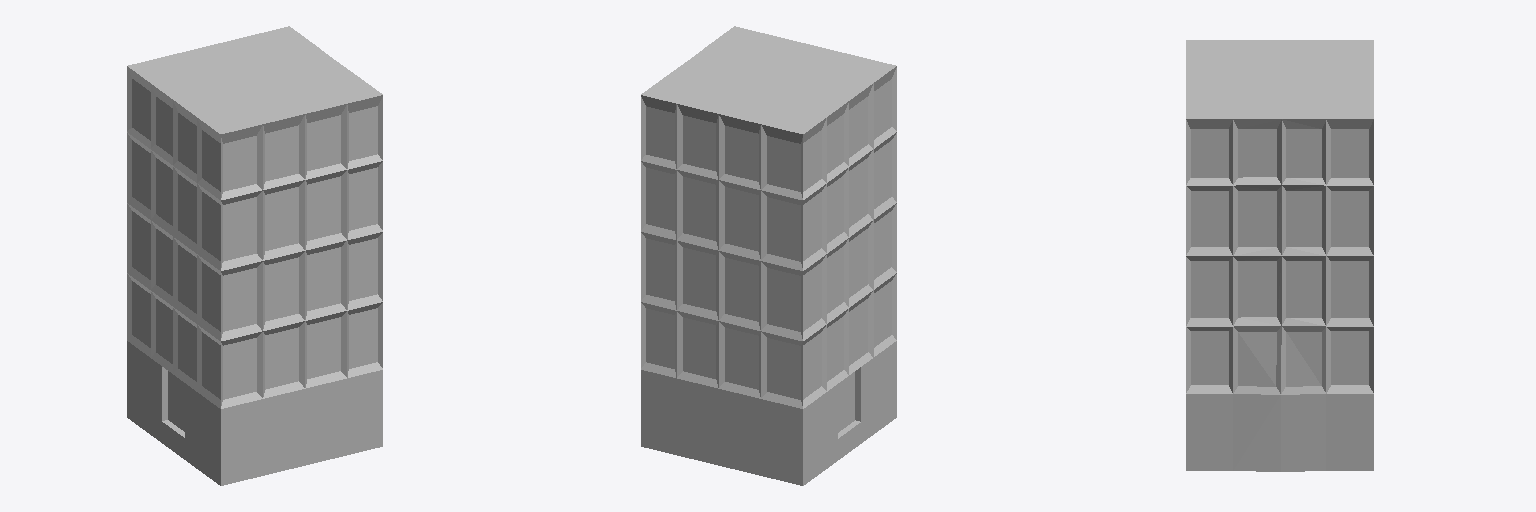
Rendered from Building Verison 1.obj.
3 views of the same model, side by side, from view 1: azimuth 30°, elevation 25°; view 2: azimuth 150°, elevation 25°; view 3: azimuth 270°, elevation 25° (orthographic).
Parts seen in each view (by area): view 1: Cube.001_Cube.004; view 2: Cube.001_Cube.004; view 3: Cube.001_Cube.004.
Part boxes in pixels (left/top/right/bottom): Cube.001_Cube.004: left=127, top=26, right=382, bottom=485; Cube.001_Cube.004: left=641, top=26, right=896, bottom=485; Cube.001_Cube.004: left=1186, top=40, right=1373, bottom=471.
Size of the model in its own units: 2.73 by 5.58 by 2.7.